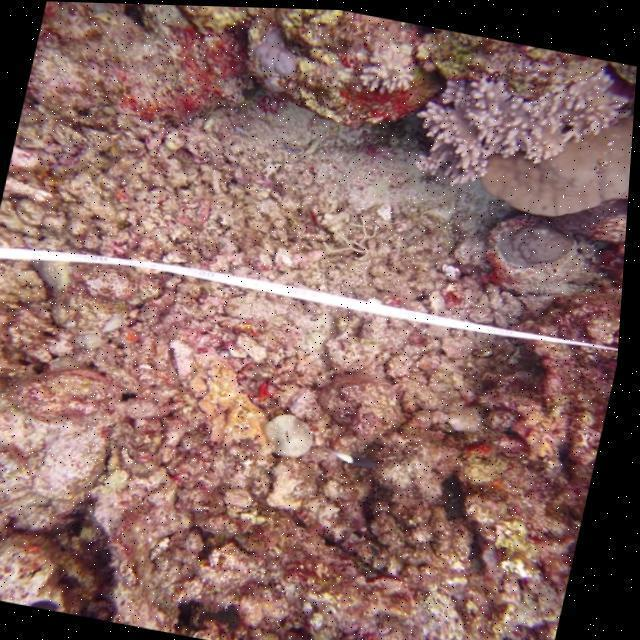Bleached Coral: (419, 38, 587, 190), (358, 32, 422, 102)
Healthy Coral: (481, 117, 632, 215)
